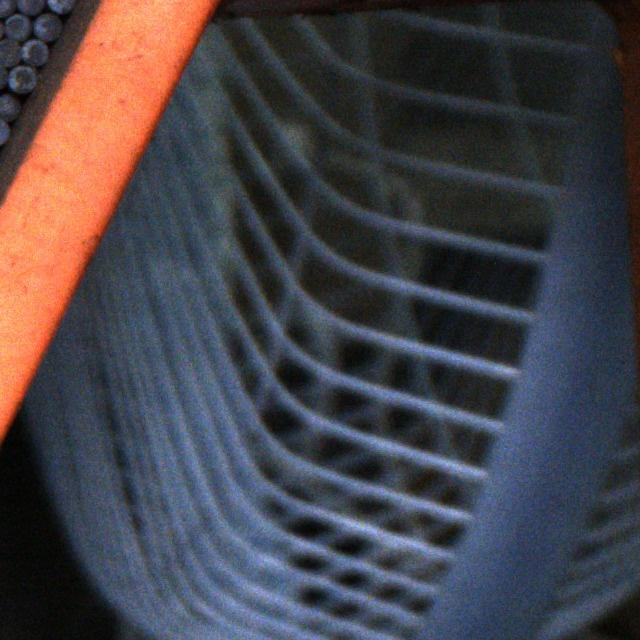tool: (32, 13, 60, 40), (7, 65, 35, 92), (19, 39, 47, 65), (3, 13, 30, 39), (0, 38, 19, 66), (0, 94, 19, 120), (16, 0, 42, 15), (47, 0, 74, 12)
